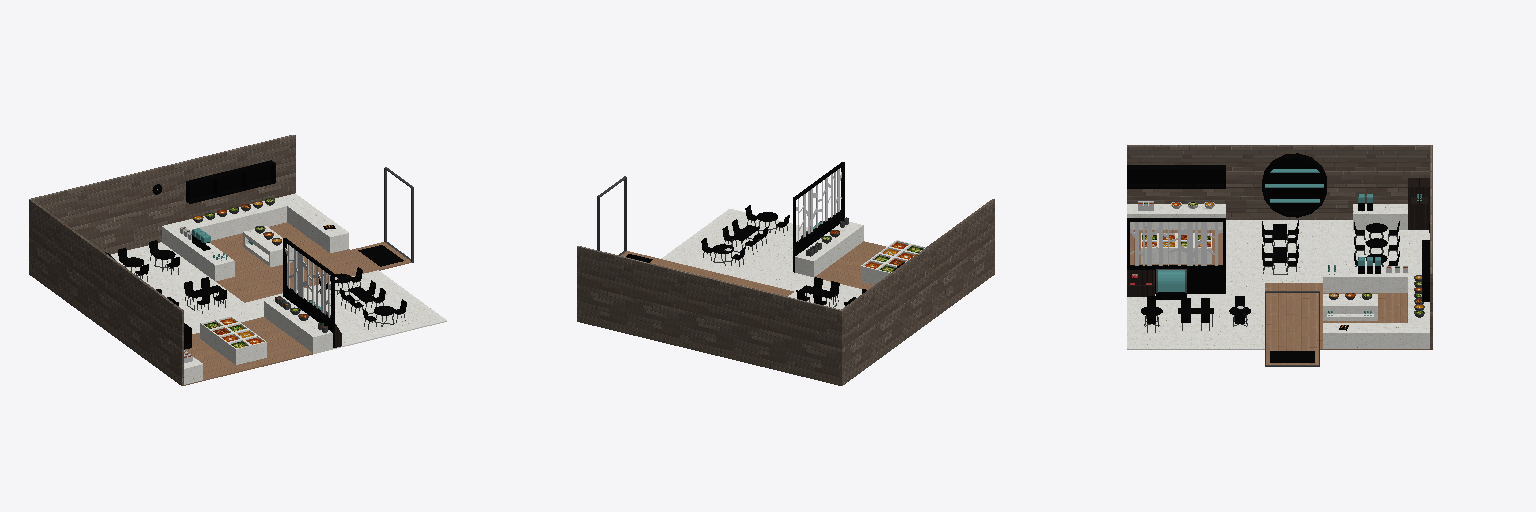
The picture shows the model from 3 angles: view 1: azimuth 30°, elevation 25°; view 2: azimuth 150°, elevation 25°; view 3: azimuth 270°, elevation 25°; orthographic projection.
Parts seen in each view (by area): view 1: 牆壁002_Mesh.128, 牆壁001_Mesh.127, 地板002_Mesh.122, 地板004_Mesh.125, 地板001_Mesh.123, 地板005_Mesh.126, 地板003_Mesh.124, 吧台001_Mesh, 吧台002_Mesh.001, 吧台003_Mesh.006, 吧台006_Mesh.121, 裝飾_Mesh.133 (+7 smaller); view 2: 牆壁002_Mesh.128, 牆壁001_Mesh.127, 地板002_Mesh.122, 吧台006_Mesh.121, 地板005_Mesh.126, 裝飾_Mesh.133, 地板001_Mesh.123, 底部_Mesh.129, 地板004_Mesh.125; view 3: 牆壁001_Mesh.127, 地板004_Mesh.125, 地板002_Mesh.122, 地板001_Mesh.123, 吧台001_Mesh, 圓框_Mesh.147, 吧台003_Mesh.006, 裝飾_Mesh.133, 吧台005_Mesh.014, 底部_Mesh.129, 地板003_Mesh.124, 自助吧台_Mesh.005 (+9 smaller).
Part boxes in pixels (x1,y1,x2,y2): 牆壁002_Mesh.128: (29, 135, 295, 274); 牆壁001_Mesh.127: (30, 200, 183, 385); 地板002_Mesh.122: (245, 270, 446, 353); 地板004_Mesh.125: (111, 242, 262, 333); 地板001_Mesh.123: (217, 242, 411, 302); 地板005_Mesh.126: (184, 317, 312, 385); 地板003_Mesh.124: (210, 222, 349, 281); 吧台001_Mesh: (277, 193, 348, 252); 吧台002_Mesh.001: (181, 198, 286, 240); 吧台003_Mesh.006: (162, 222, 234, 281); 吧台006_Mesh.121: (264, 296, 332, 352); 裝飾_Mesh.133: (285, 245, 330, 317); 牆壁002_Mesh.128: (577, 246, 842, 385); 牆壁001_Mesh.127: (841, 199, 994, 384); 地板002_Mesh.122: (661, 209, 813, 291); 吧台006_Mesh.121: (795, 222, 863, 276); 地板005_Mesh.126: (814, 241, 885, 289); 裝飾_Mesh.133: (796, 169, 841, 241); 地板001_Mesh.123: (621, 251, 793, 296); 底部_Mesh.129: (793, 209, 844, 272); 地板004_Mesh.125: (788, 278, 861, 309); 牆壁001_Mesh.127: (1127, 145, 1429, 219); 地板004_Mesh.125: (1226, 220, 1429, 282); 地板002_Mesh.122: (1127, 283, 1264, 349); 地板001_Mesh.123: (1265, 283, 1319, 364); 吧台001_Mesh: (1323, 323, 1429, 348); 圓框_Mesh.147: (1262, 153, 1326, 217); 吧台003_Mesh.006: (1323, 267, 1421, 292); 裝飾_Mesh.133: (1130, 222, 1222, 265); 吧台005_Mesh.014: (1127, 204, 1225, 229); 底部_Mesh.129: (1127, 265, 1225, 293); 地板003_Mesh.124: (1320, 283, 1429, 349); 自助吧台_Mesh.005: (1323, 294, 1377, 320).
Size of the model in its own units: 0.63 by 0.15 by 0.555.
Materials: 18 (11 with a texture image).